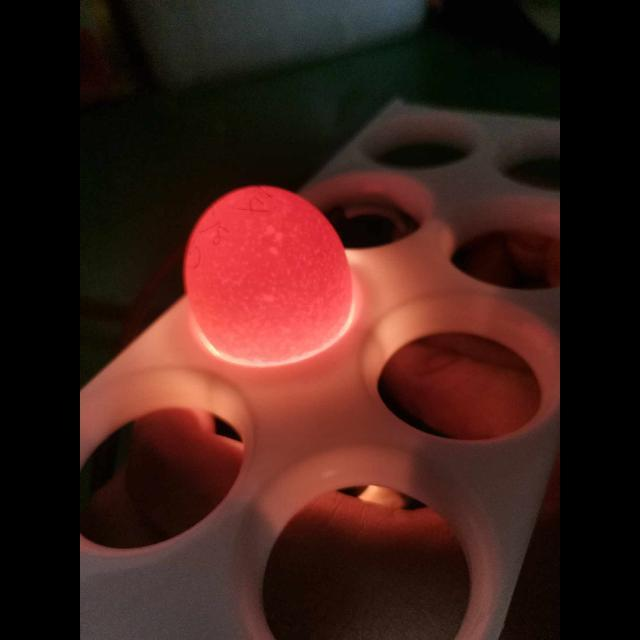Infertile: (182, 183, 354, 357)
